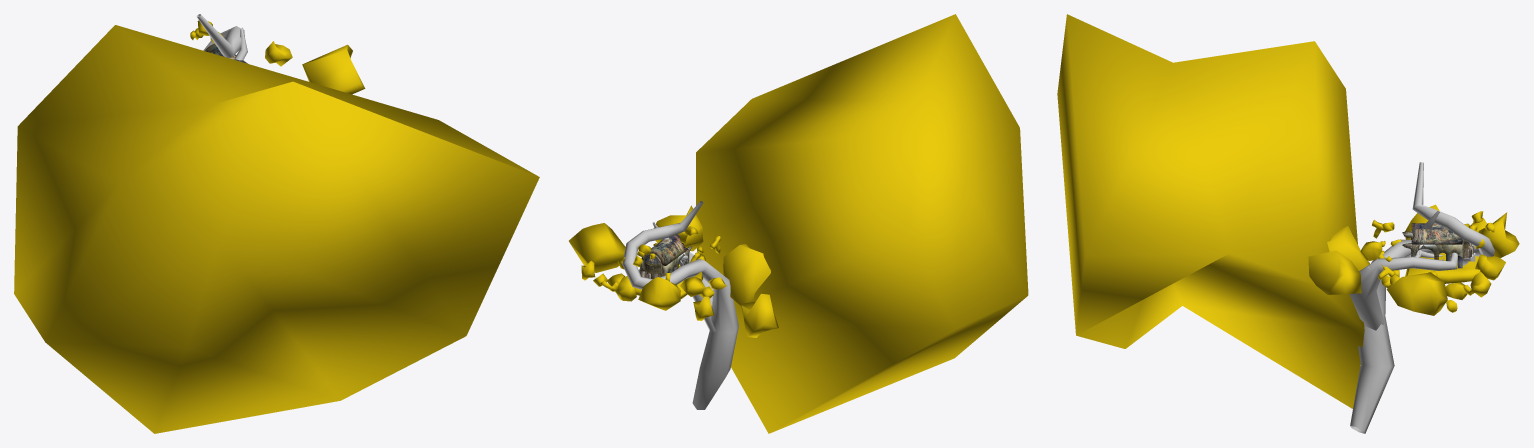
The model's file is ChurchRoomProto.fbx.
3 views of the same model, side by side, from view 1: azimuth 30°, elevation 25°; view 2: azimuth 150°, elevation 25°; view 3: azimuth 270°, elevation 25° (orthographic). The views are drawn at different scales.
Visible parts, largest first — view 1: Fragment.009, Fragment.043, treeOfYoreChurch; view 2: Fragment.009, treeOfYoreChurch, Fragment.046, Fragment.043, Fragment.047, Fragment.034, roof, Fragment.044; view 3: Fragment.009, treeOfYoreChurch, Fragment.043, Fragment.044, roof, Fragment.046, floor.001, Fragment.034, pillars, Fragment.033.
Boxes of the visible parts, bbox=[...] form: Fragment.009: bbox=[14, 25, 539, 433]; Fragment.043: bbox=[302, 44, 365, 94]; treeOfYoreChurch: bbox=[196, 14, 247, 60]; Fragment.009: bbox=[696, 14, 1028, 433]; treeOfYoreChurch: bbox=[622, 201, 738, 409]; Fragment.046: bbox=[723, 244, 770, 305]; Fragment.043: bbox=[569, 223, 625, 272]; Fragment.047: bbox=[741, 293, 778, 337]; Fragment.034: bbox=[638, 277, 680, 310]; roof: bbox=[641, 234, 688, 265]; Fragment.044: bbox=[653, 205, 703, 251]; Fragment.009: bbox=[1057, 14, 1364, 408]; treeOfYoreChurch: bbox=[1349, 162, 1494, 433]; Fragment.043: bbox=[1386, 272, 1447, 315]; Fragment.044: bbox=[1308, 250, 1361, 294]; roof: bbox=[1411, 223, 1462, 244]; Fragment.046: bbox=[1327, 226, 1369, 271]; floor.001: bbox=[1405, 253, 1480, 283]; Fragment.034: bbox=[1478, 212, 1519, 257]; pillars: bbox=[1402, 231, 1462, 268]; Fragment.033: bbox=[1475, 254, 1505, 280].
Bounding box in the file's own units: 11435 × 10619 × 12112.
